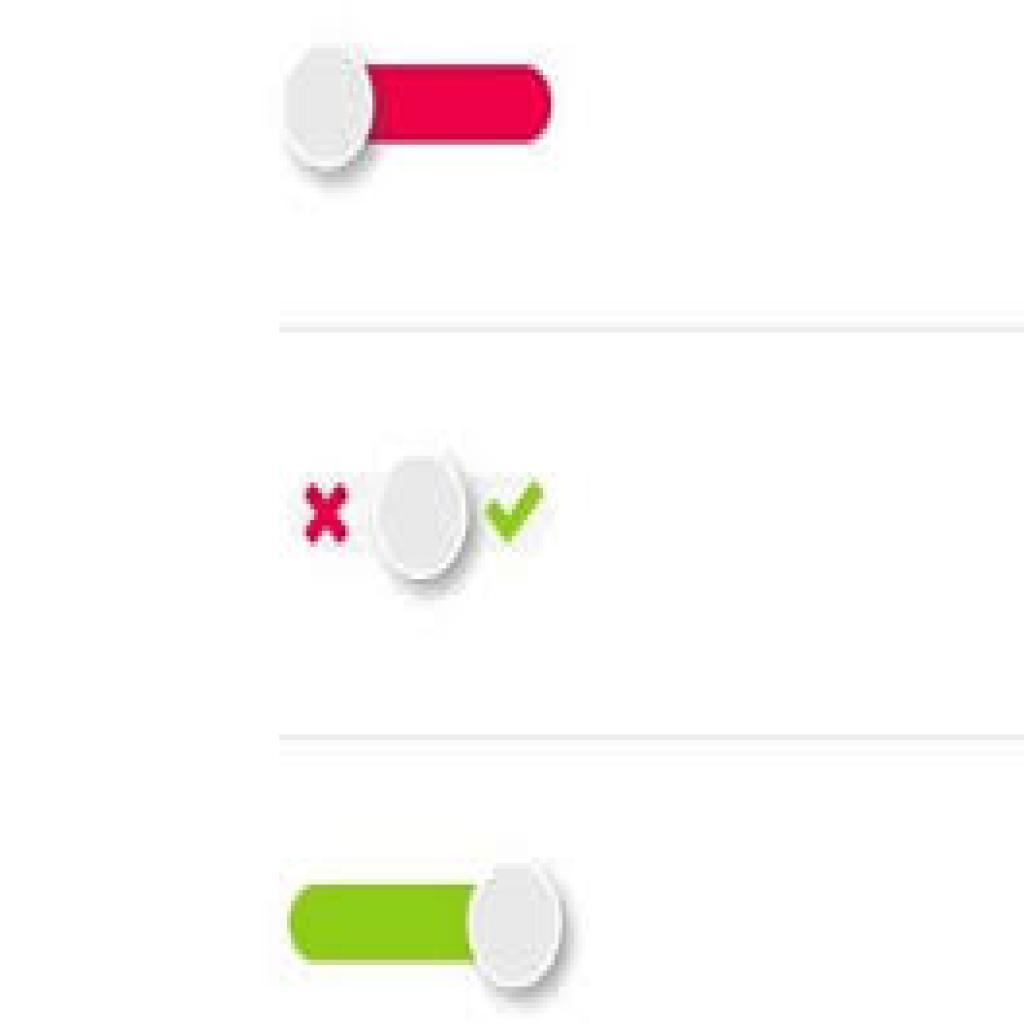switch: (291, 854, 567, 994), (279, 40, 553, 181)
